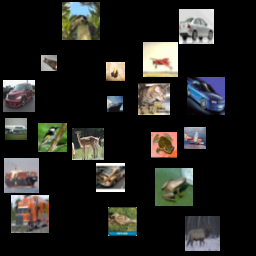airplane: (143, 42, 178, 77), (5, 118, 27, 140), (184, 127, 206, 149)
automobile: (187, 77, 225, 115), (179, 9, 214, 44), (3, 80, 35, 112), (96, 163, 125, 192)
bird: (62, 2, 100, 40), (38, 123, 67, 152), (108, 207, 137, 236)
cat: (138, 83, 170, 115), (41, 55, 57, 71)
deer: (185, 216, 220, 251), (72, 128, 104, 160)
frog: (155, 168, 193, 206), (151, 132, 177, 158), (106, 62, 125, 81)
ship: (4, 158, 39, 193), (107, 96, 123, 112)
